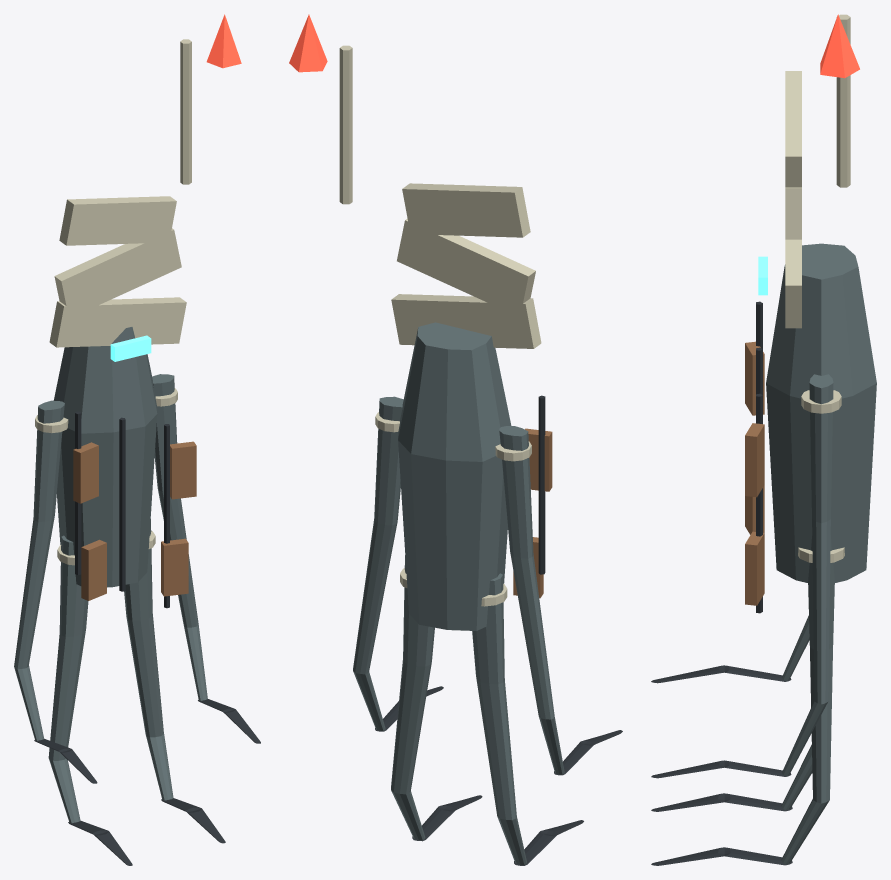
Rendered from stillwright.fbx.
The picture shows the model from 3 angles, left to right: view 1: azimuth 30°, elevation 25°; view 2: azimuth 150°, elevation 25°; view 3: azimuth 270°, elevation 25°; orthographic projection. The views are drawn at different scales.
Visible parts, largest first — view 1: leaning_scribe, arm_0_skin.003, crossed_veil_0, leg_0_skin.003, crossed_veil_1, crossed_veil_2, leg_1_skin.003, arm_1_skin.003, HP_still_quill, HP_still_clip_3, HP_still_clip_1, HP_still_clip_2 (+10 smaller); view 2: leaning_scribe, arm_0_skin.003, arm_1_skin.003, leg_0_skin.003, crossed_veil_1, crossed_veil_2, crossed_veil_0, leg_1_skin.003, HP_still_quill, HP_still_thread_0, HP_still_quill_tip, HP_still_clip_0 (+3 smaller); view 3: leaning_scribe, arm_1_skin.003, leg_1_skin.003, crossed_veil_2, HP_still_quill, crossed_veil_0, HP_still_quill_tip, HP_still_clip_1, HP_still_clip_3, leg_0_hook.003, leg_1_hook.003, arm_1_hook.003 (+8 smaller).
Part boxes in pixels (x1,y1,x2,y2): leaning_scribe: (53,327,157,587); arm_0_skin.003: (14,400,64,740); crossed_veil_0: (49,297,186,347); leg_0_skin.003: (48,535,88,823); crossed_veil_1: (54,228,181,314); crossed_veil_2: (59,196,176,245); leg_1_skin.003: (124,519,173,800); arm_1_skin.003: (152,374,207,700); HP_still_quill: (180,39,191,184); HP_still_clip_3: (161,538,188,596); HP_still_clip_1: (170,441,196,499); HP_still_clip_2: (81,539,106,600); leaning_scribe: (398,322,511,630); arm_0_skin.003: (499,426,564,774); arm_1_skin.003: (353,396,403,730); leg_0_skin.003: (472,573,526,864); crossed_veil_1: (397,218,535,314); crossed_veil_2: (402,183,530,237); crossed_veil_0: (391,294,541,348); leg_1_skin.003: (391,555,434,840); HP_still_quill: (339,45,352,204); HP_still_thread_0: (538,395,545,574); HP_still_quill_tip: (289,14,327,72); HP_still_clip_0: (525,428,552,491); leaning_scribe: (766,243,876,582); arm_1_skin.003: (782,374,833,776); leg_1_skin.003: (781,535,834,864); crossed_veil_2: (785,71,801,187); HP_still_quill: (836,14,850,187); crossed_veil_0: (785,239,801,328); HP_still_quill_tip: (820,14,859,78); HP_still_clip_1: (745,423,764,497); HP_still_clip_3: (745,531,764,605); leg_0_hook.003: (651,793,792,811); leg_1_hook.003: (651,847,792,865); arm_1_hook.003: (651,760,791,778).
Size of the model in its own units: 115 by 356 by 81.35.
